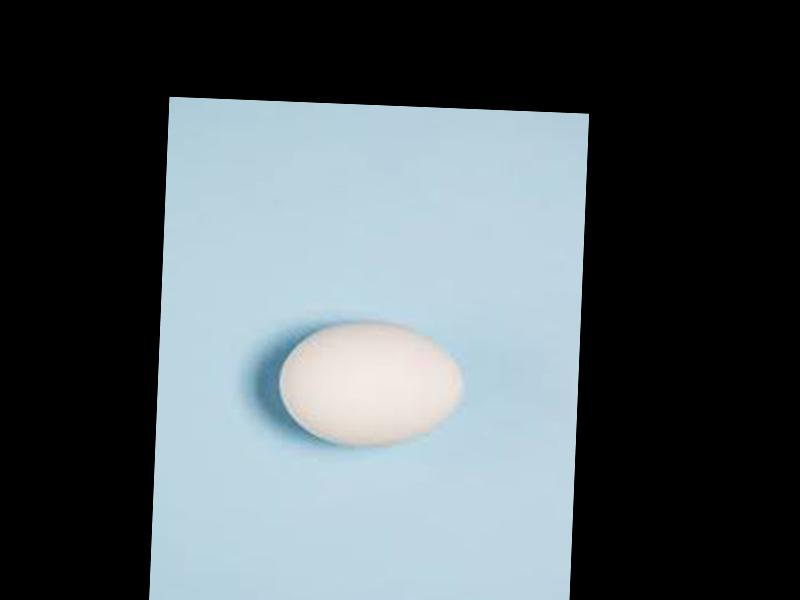Eggs: (276, 317, 467, 449)
